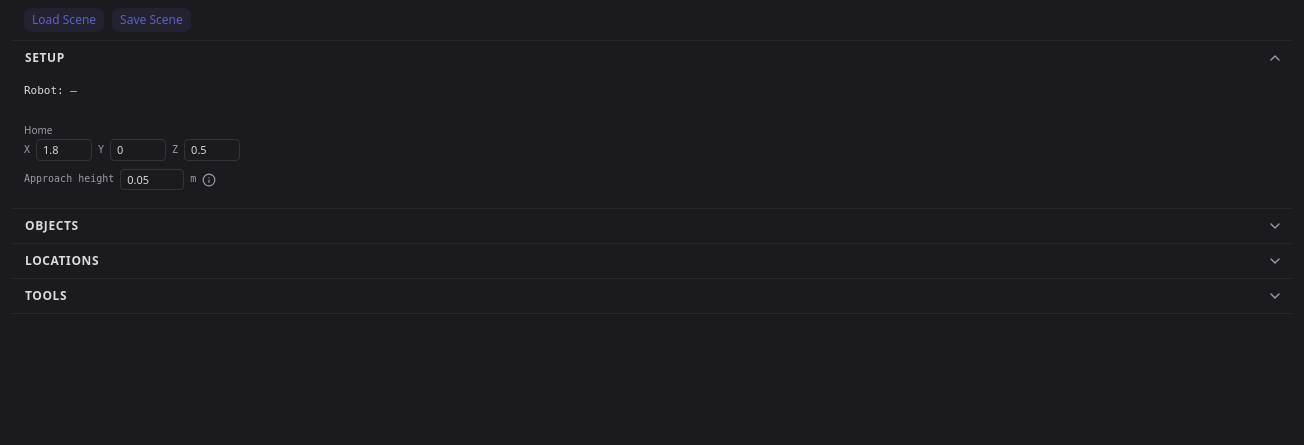
it: Scene area — full-height SceneWorkspace (area-scene spec) › reads the seeded scene from useDomainSceneStore (Bolt visible)
Click the button "Objects".
click(52, 226)  # box [12,209,1292,243]
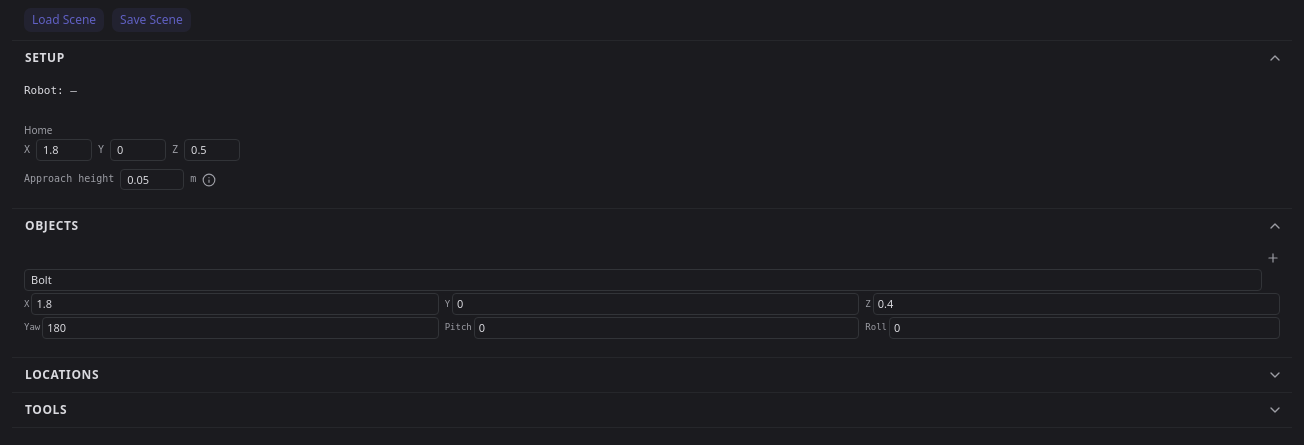
Expected: the field showing "Bolt" is shown, [24,269,1262,291]
